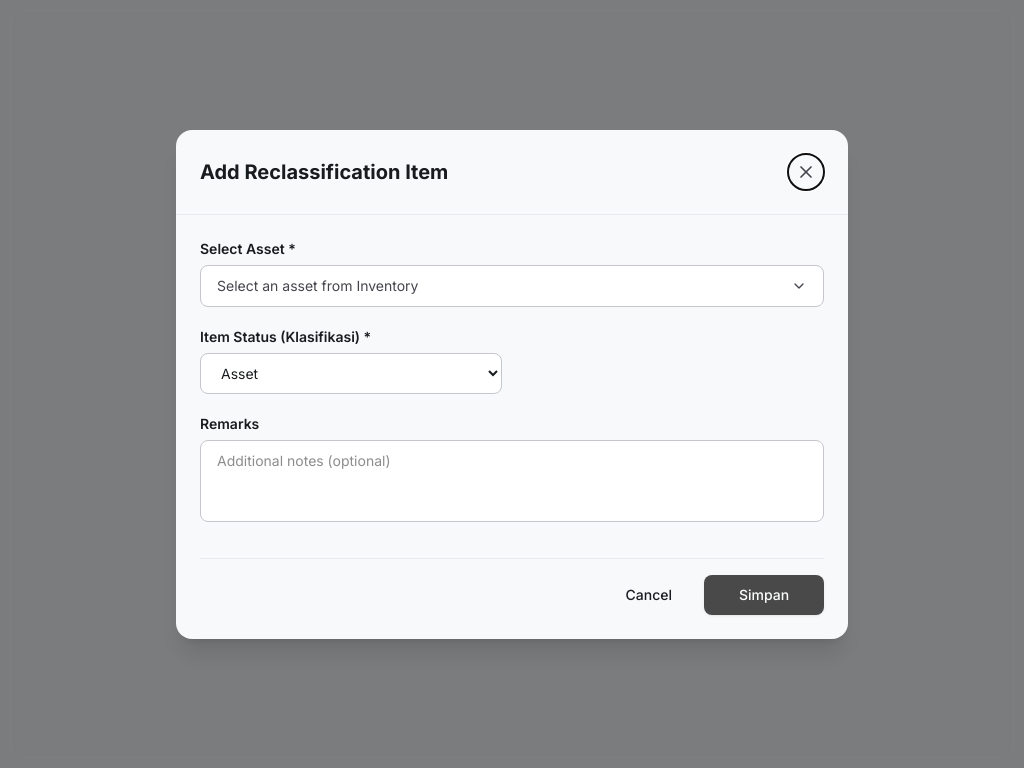
Test case: AddReclassificationModal — asset picker › hides assets that already have a reclassification row
Step 1. Click the button "Select an asset from Inventory" → point(318, 285), box x1=200 y1=264 x2=824 y2=306
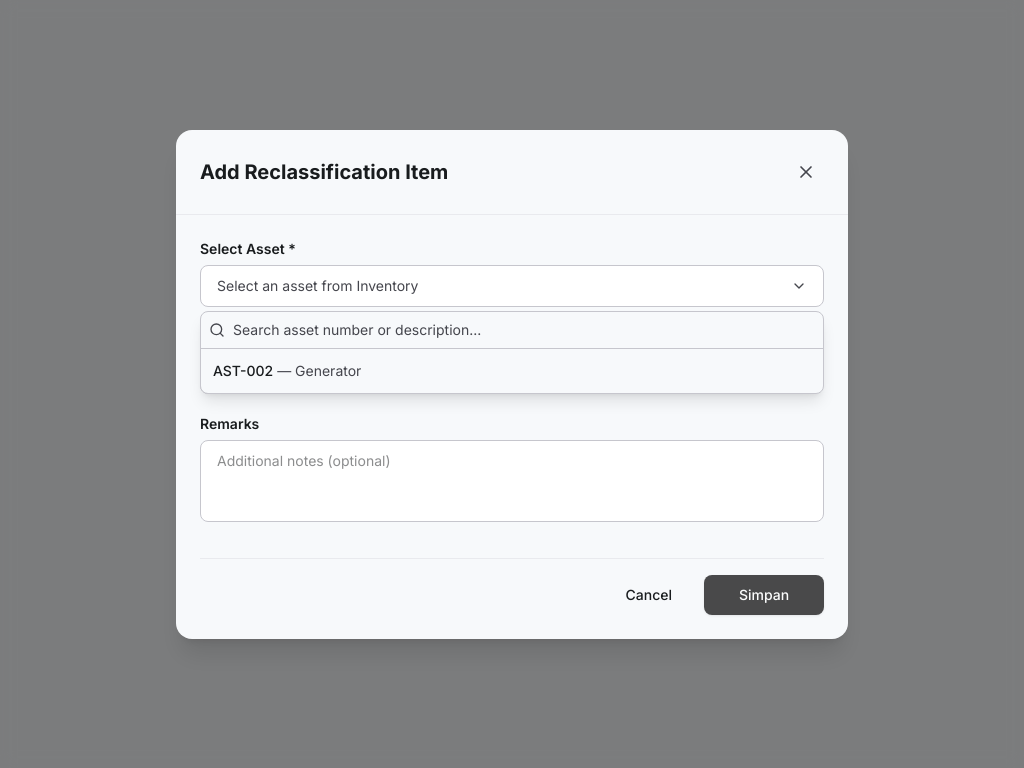
Now the text "AST-002" is shown, box x1=213 y1=362 x2=273 y2=378
